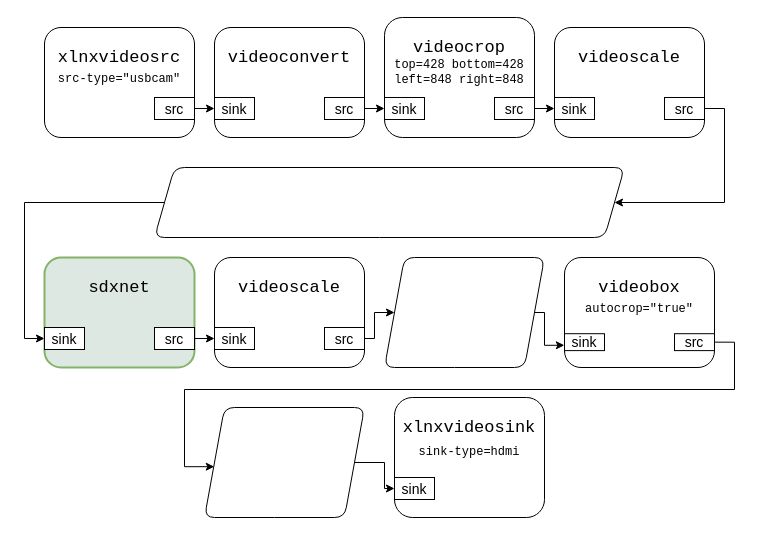
This 760x537 diagram has some shape labels left out. The shapes that lost their labels are listed below. From the top down, each one's centre as x and y in pixels, then its label:
point 389,202: Filter caps: "video/x-raw, width=28, height=28, format=YUY2, framerate=60/1"
point 464,312: Fcaps: "... width=224, height=224..."
point 284,462: Fcaps: "... width=1920, height=1080..."
